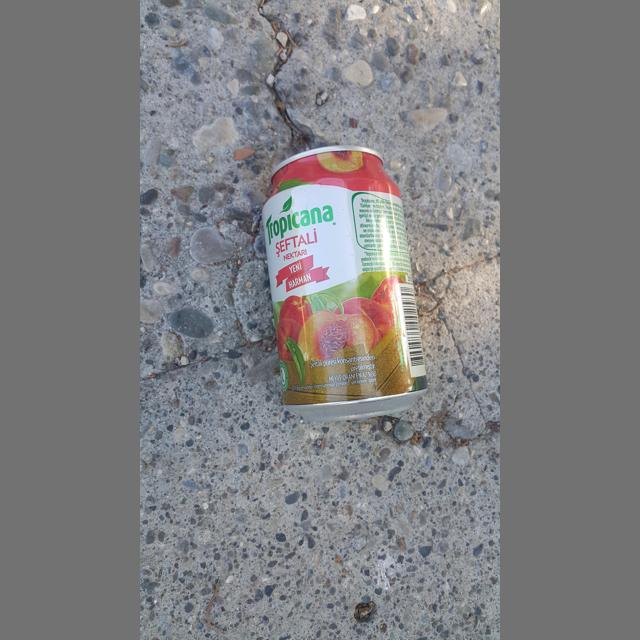litter: (261, 146, 428, 422)
